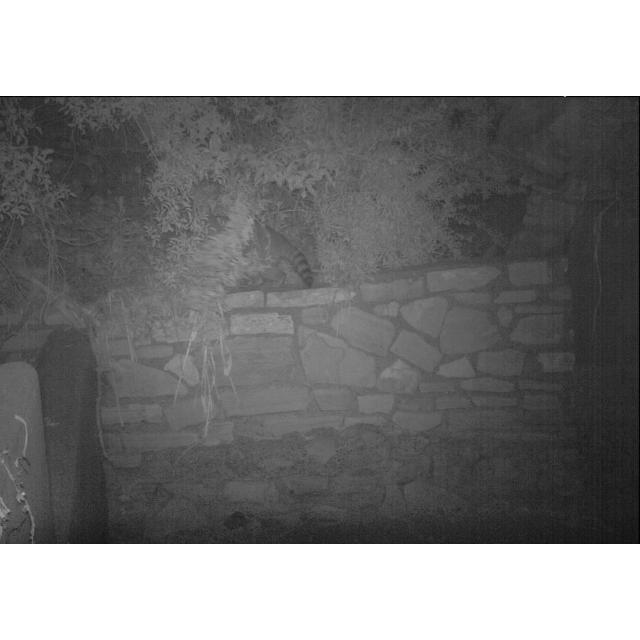animals: (230, 221, 316, 281)
